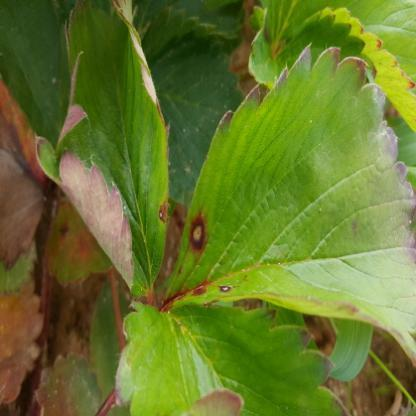Strawberry_Leaf_Spot: (151, 43, 415, 364), (32, 0, 172, 301)
